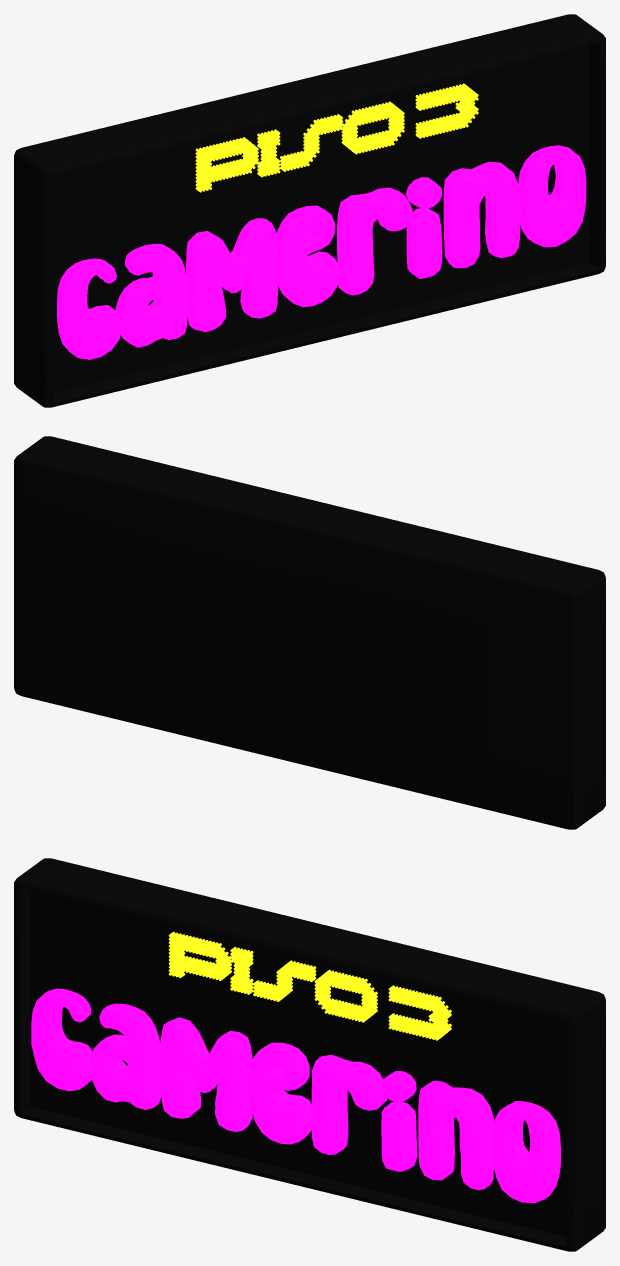
File: PISO 3.fbx
3 renders of one model, top to bottom at view 1: azimuth 30°, elevation 25°; view 2: azimuth 150°, elevation 25°; view 3: azimuth 330°, elevation 25°, orthographic.
Parts seen in each view (by area): view 1: PISO3.629, PISO3.620, PISO3.420; view 2: PISO3.629; view 3: PISO3.629, PISO3.620, PISO3.420.
Part boxes in pixels (<box>): PISO3.629: <box>14,14,605,407</box>; PISO3.620: <box>57,145,586,359</box>; PISO3.420: <box>195,83,478,192</box>; PISO3.629: <box>14,436,605,829</box>; PISO3.629: <box>14,858,605,1251</box>; PISO3.620: <box>31,988,560,1203</box>; PISO3.420: <box>168,931,451,1040</box>.
Bounding box in the file's own units: 9.44 × 3.84 × 0.9906.
